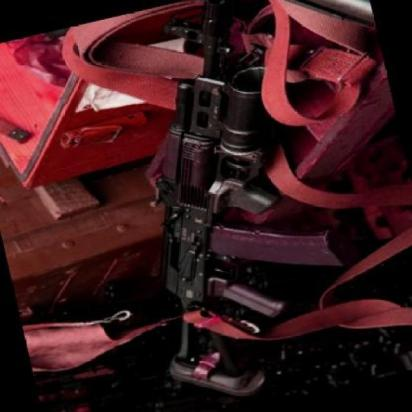Gun: (98, 0, 369, 394)
